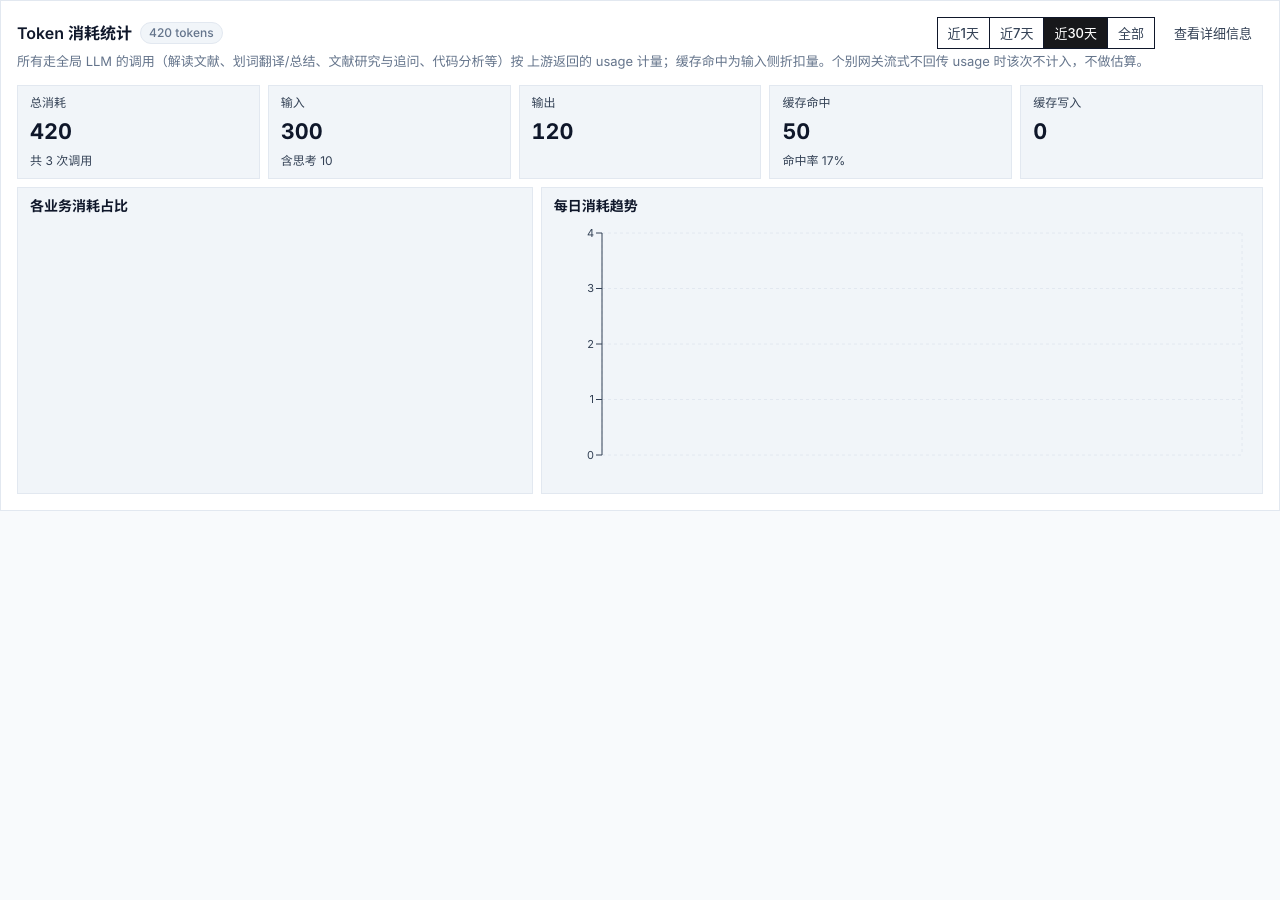
Scenario: TokenUsageSection 明细表 › 加载更多按当前 offset 追加下一页
Expected: the text "420" is shown, x1=30 y1=118 x2=72 y2=144
Step 1. Click the button "查看详细信息" → (1213, 33), box x1=1163 y1=18 x2=1263 y2=48
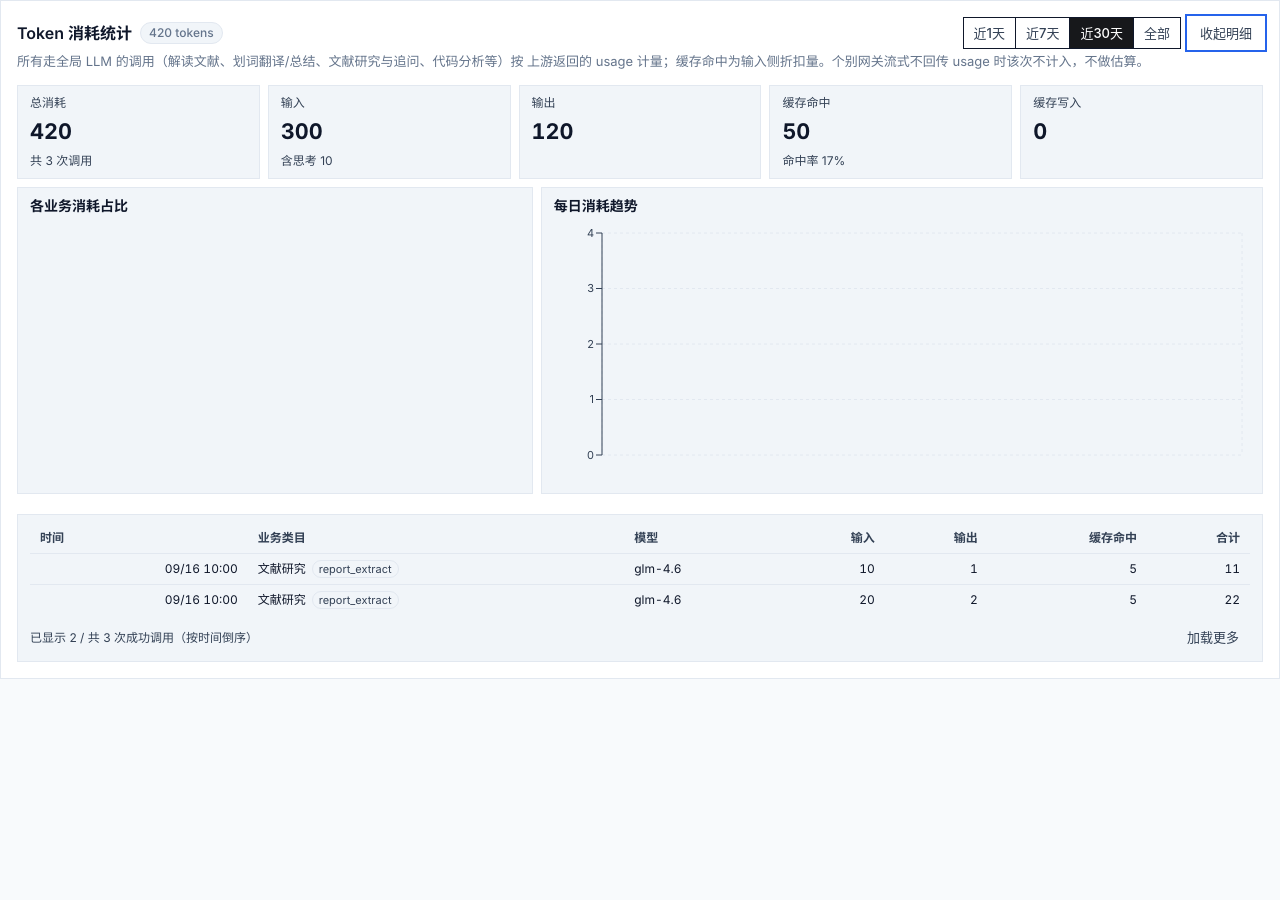
Step 2. Click the button "加载更多" → (1213, 638), box x1=1176 y1=623 x2=1250 y2=653
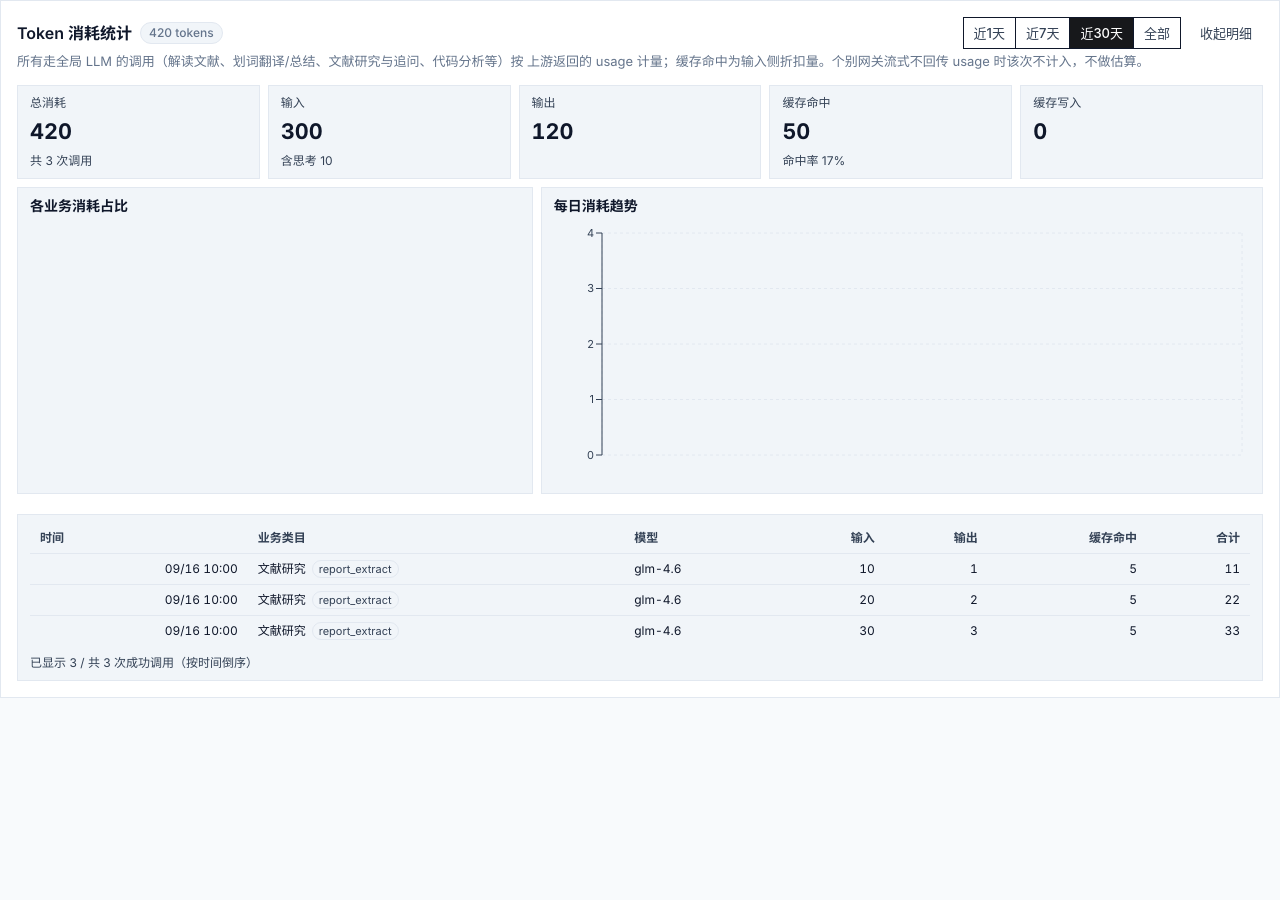
Now the text "已显示 3 / 共 3 次成功调用（按时间倒序）" is shown, box x1=30 y1=654 x2=258 y2=672
Now the button "加载更多" is gone
